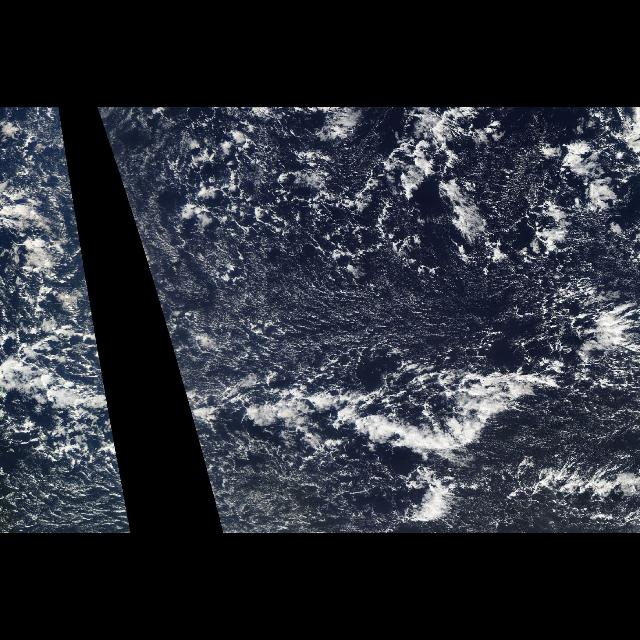Gravel: (150, 108, 640, 450), (205, 466, 418, 534), (0, 466, 132, 534)
Sugar: (158, 266, 534, 382)
